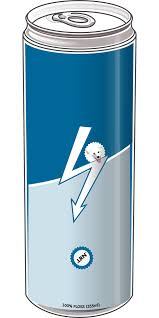can: (21, 1, 135, 318)
